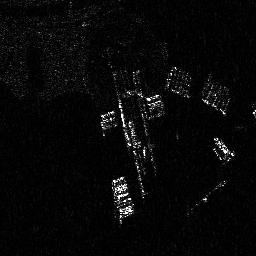ship: (211, 136, 234, 162)
